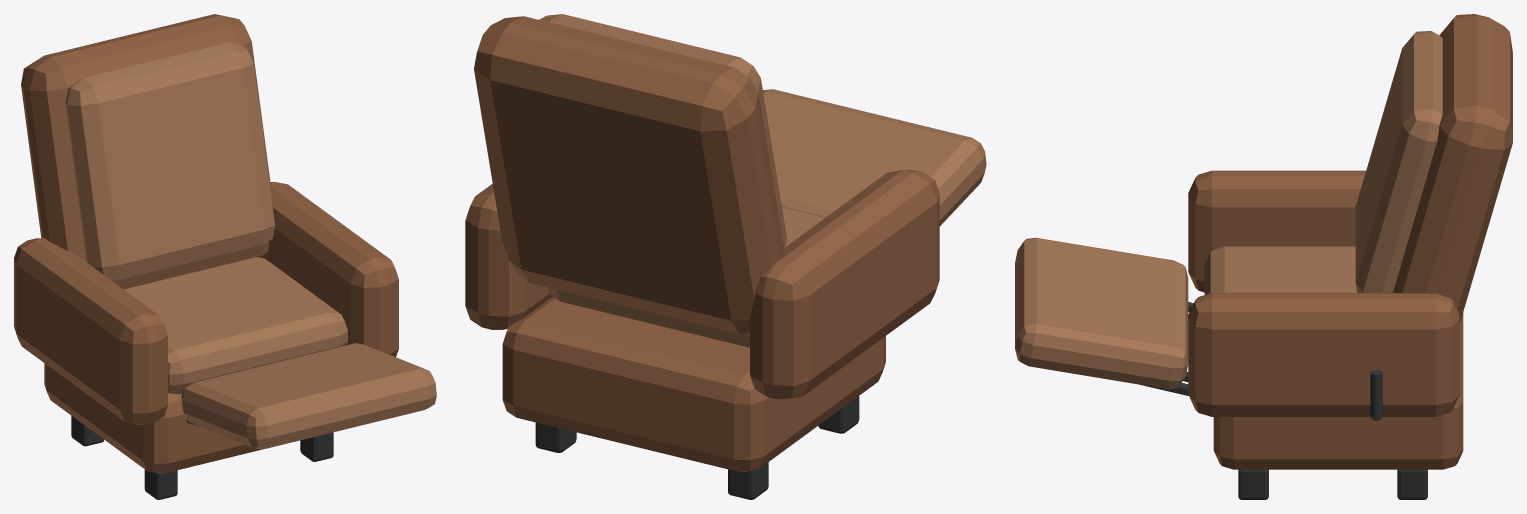
The model's file is recliner.glb.
3 renders of one model, left to right at view 1: azimuth 30°, elevation 25°; view 2: azimuth 150°, elevation 25°; view 3: azimuth 270°, elevation 25°, orthographic. The views are drawn at different scales.
Parts seen in each view (by area): view 1: Soft recliner back panel, Padded recliner arm, Extended padded footrest, Recliner seat cushion, Reclined padded back, Padded recliner arm.001, Recliner lower body, Recliner foot, Recliner foot.002, Recliner foot.001; view 2: Reclined padded back, Recliner lower body, Padded recliner arm, Extended padded footrest, Padded recliner arm.001, Soft recliner back panel, Recliner seat cushion, Recliner foot.001, Recliner foot.003, Recliner foot; view 3: Padded recliner arm.001, Extended padded footrest, Reclined padded back, Soft recliner back panel, Padded recliner arm, Recliner lower body, Recliner seat cushion, Recliner foot.003, Recliner foot.002, Recliner side handle.
Part boxes in pixels (left/top/right/bottom): Soft recliner back panel: left=65, top=42, right=274, bottom=283; Padded recliner arm: left=14, top=238, right=167, bottom=424; Extended padded footrest: left=181, top=343, right=436, bottom=449; Recliner seat cushion: left=124, top=257, right=347, bottom=394; Reclined padded back: left=21, top=14, right=272, bottom=289; Padded recliner arm.001: left=260, top=181, right=398, bottom=356; Recliner lower body: left=44, top=363, right=260, bottom=473; Recliner foot: left=144, top=469, right=177, bottom=499; Recliner foot.002: left=300, top=432, right=333, bottom=461; Recliner foot.001: left=71, top=416, right=103, bottom=446; Reclined padded back: left=474, top=16, right=784, bottom=334; Recliner lower body: left=502, top=296, right=885, bottom=471; Padded recliner arm: left=750, top=169, right=939, bottom=399; Extended padded footrest: left=763, top=89, right=986, bottom=226; Padded recliner arm.001: left=465, top=184, right=552, bottom=329; Soft recliner back panel: left=539, top=14, right=786, bottom=247; Recliner seat cushion: left=548, top=206, right=826, bottom=347; Recliner foot.001: left=728, top=462, right=768, bottom=499; Recliner foot.003: left=535, top=422, right=576, bottom=452; Recliner foot: left=818, top=396, right=859, bottom=433; Padded recliner arm.001: left=1188, top=293, right=1459, bottom=416; Extended padded footrest: left=1015, top=237, right=1188, bottom=389; Reclined padded back: left=1393, top=14, right=1512, bottom=323; Soft recliner back panel: left=1355, top=31, right=1442, bottom=292; Padded recliner arm: left=1188, top=170, right=1365, bottom=292; Recliner lower body: left=1213, top=313, right=1463, bottom=469; Recliner seat cushion: left=1204, top=246, right=1356, bottom=294; Recliner foot.003: left=1397, top=469, right=1427, bottom=499; Recliner foot.002: left=1238, top=469, right=1268, bottom=499; Recliner side handle: left=1370, top=370, right=1382, bottom=417.
Bounding box in the file's own units: 1.01 × 1.2 × 1.38.
